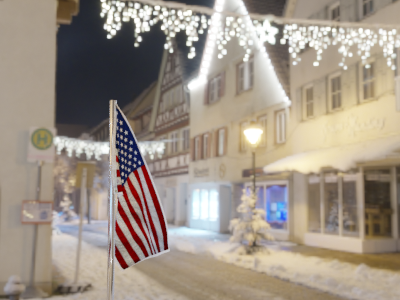America flag: (112, 99, 173, 272)
